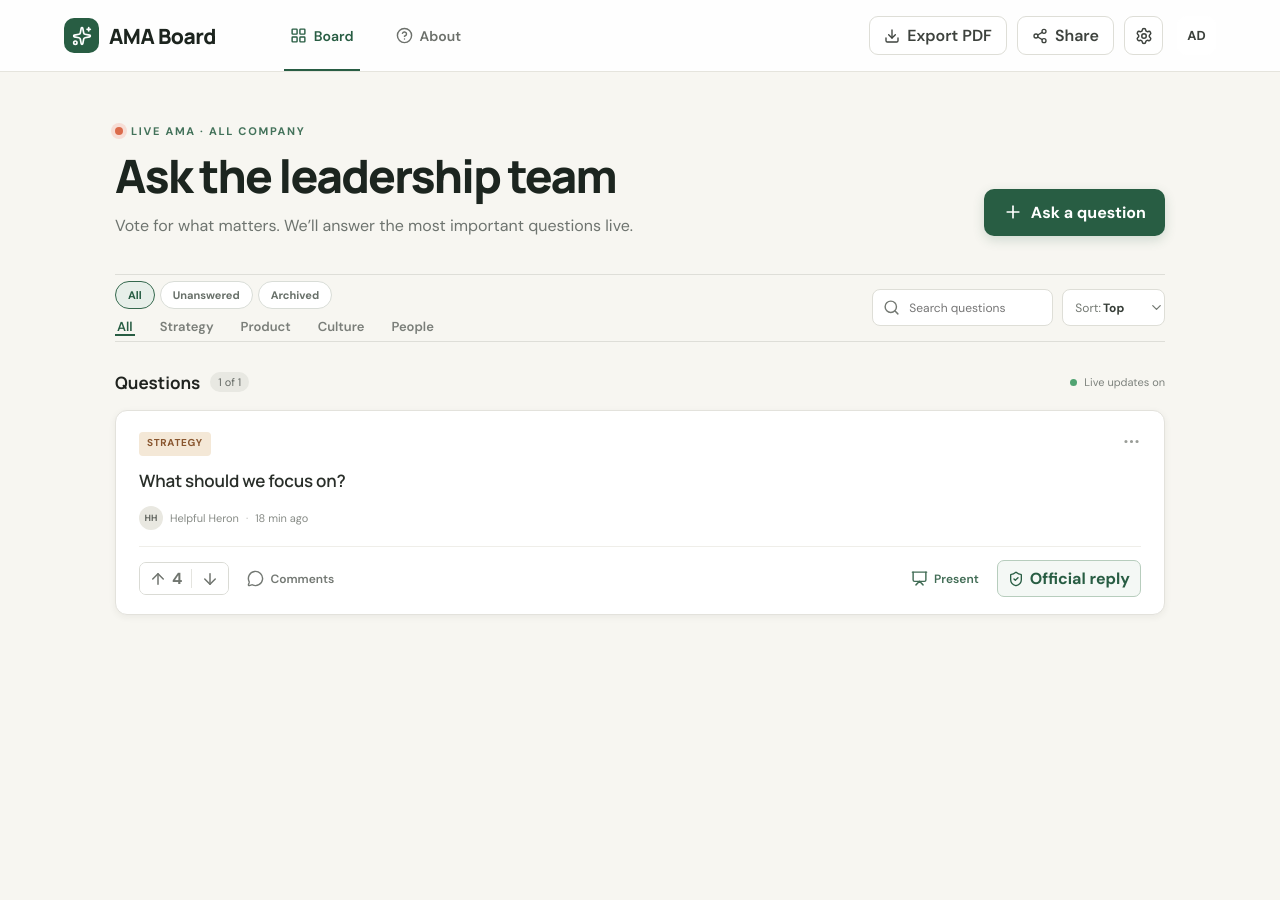
Test: AMA board › offers configurable PDF export to administrators
What coordinates should you click on to do the following:
click the button "Export PDF"
I would click on:
 (938, 36)
Its box is [869,16,1007,55].
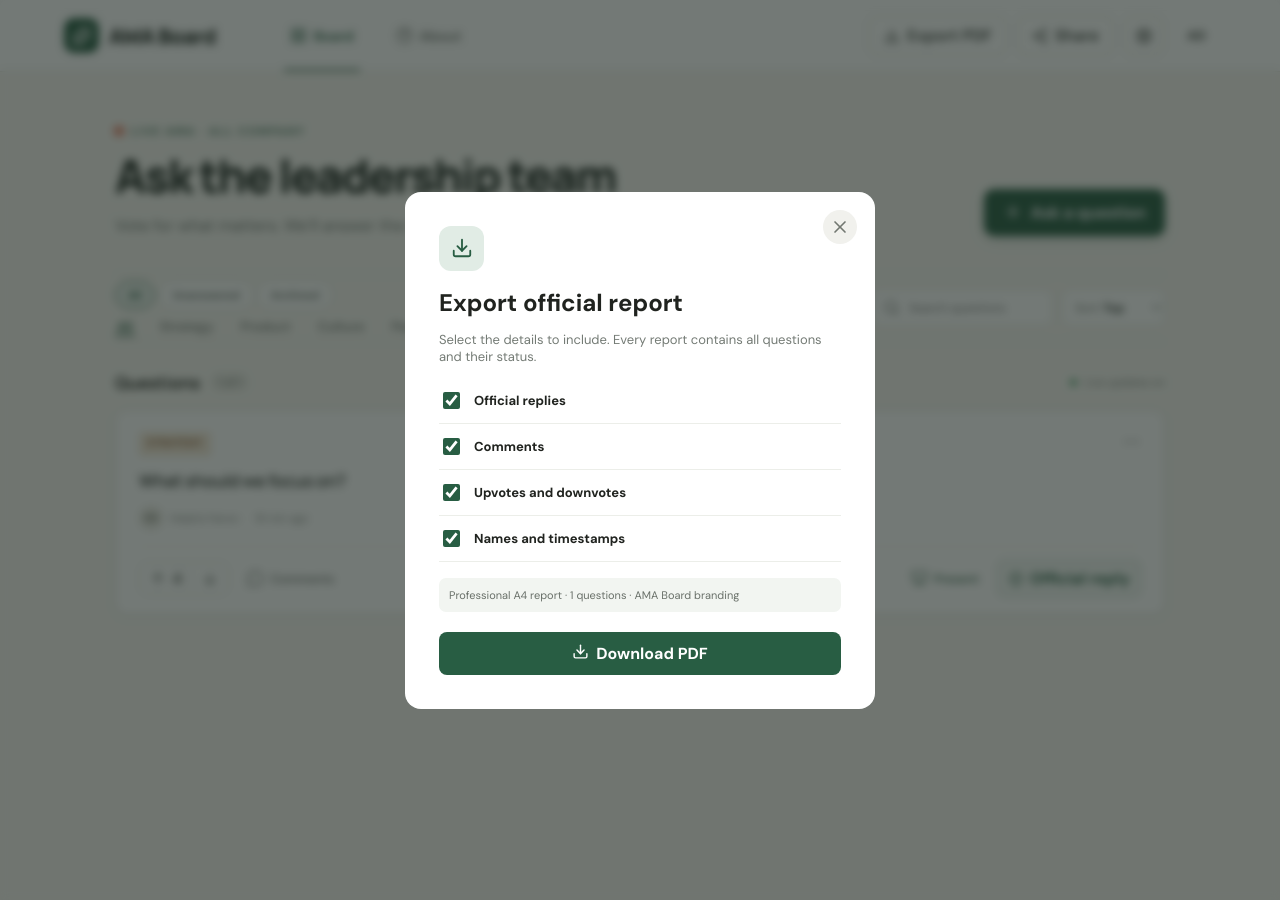
Result: the dialog "Export official report" is shown at [405,192,875,708]
Result: the checkbox labelled "Comments" is checked at [443,438,460,454]
Result: the checkbox labelled "Upvotes and downvotes" is checked at [443,484,460,500]
